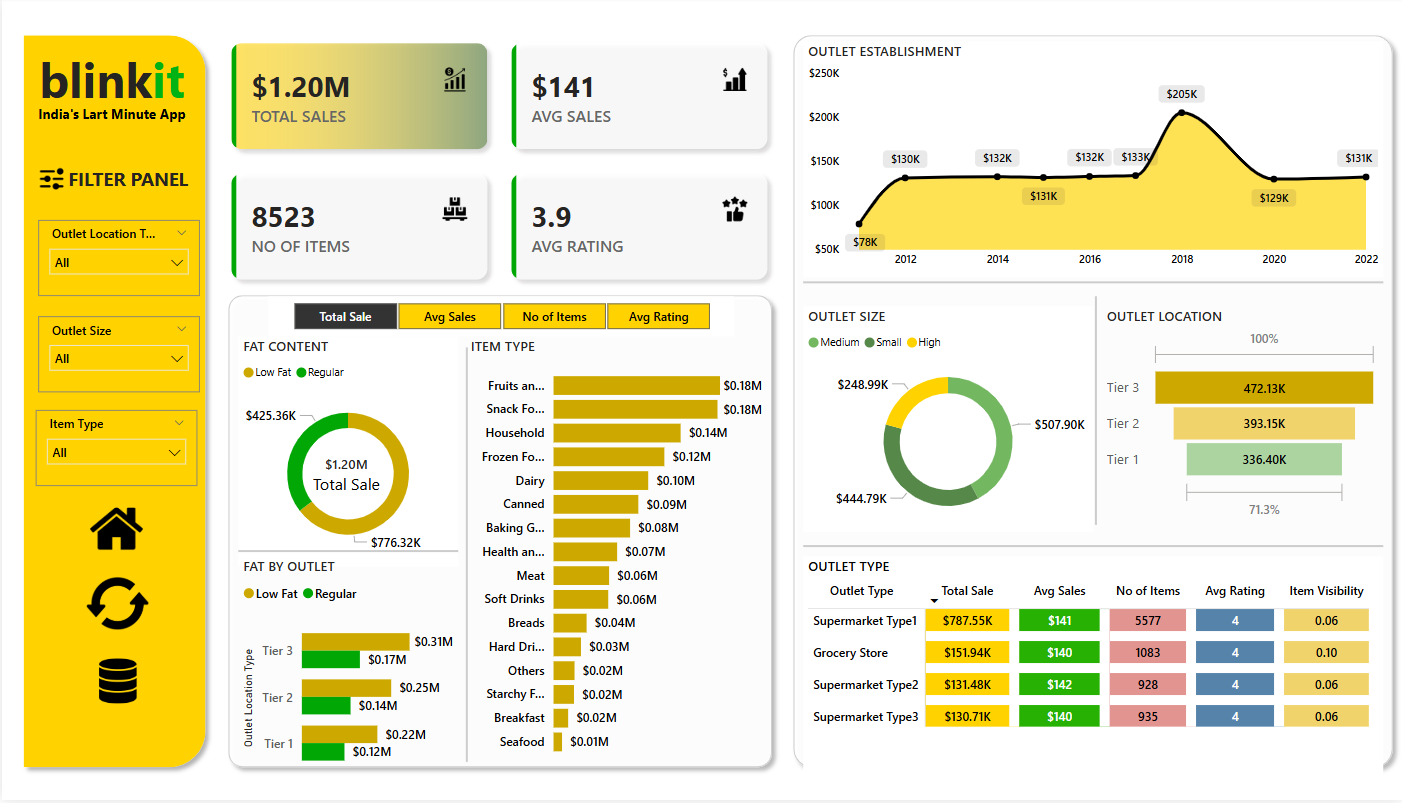

Layout of this report page (visuals, bound fields, positions):
{"tool":"powerbi","page":{"name":"Blinkit Analysis","canvas":[1400,800],"ordinal":0},"visuals":[{"type":"shape","box":[12.9,25.7,200,750],"z":0},{"type":"textbox","box":[31.4,100,171.4,34.3],"z":1000},{"type":"textbox","box":[25.7,41.4,167.1,75.7],"z":2000},{"type":"cardVisual","fields":{"Data":["BlinkIT Grocery Data.Total Sale","BlinkIT Grocery Data.Avg Sales","BlinkIT Grocery Data.No of Items","BlinkIT Grocery Data.Avg Rating"]},"box":[212.9,25.7,570,270],"z":3000},{"type":"shape","box":[217.1,285.7,561.4,490],"z":4000},{"type":"donutChart","title":"FAT CONTENT","fields":{"Y":["BlinkIT Grocery Data.Total Sale"],"Category":["BlinkIT Grocery Data.Item Fat Content"]},"box":[235.7,335.7,220,230],"z":5000},{"type":"slicer","fields":{"Values":["Metrics.Metrics"]},"box":[265.7,295.7,465.7,40],"z":6000},{"type":"cardVisual","fields":{"Data":["BlinkIT Grocery Data.Total Sale"]},"box":[292.9,434.3,104.3,81.4],"z":7000},{"type":"clusteredBarChart","title":"FAT BY OUTLET","fields":{"Y":["BlinkIT Grocery Data.Total Sale"],"Category":["BlinkIT Grocery Data.Outlet Location Type"],"Series":["BlinkIT Grocery Data.Item Fat Content"]},"box":[235.7,555.7,220,230],"z":8000},{"type":"shape","box":[235.7,542.9,220,17.1],"z":9000},{"type":"shape","box":[455.7,347.1,17.1,414.3],"z":10000},{"type":"barChart","title":"ITEM TYPE","fields":{"Y":["BlinkIT Grocery Data.Total Sale"],"Category":["BlinkIT Grocery Data.Item Type"]},"box":[464.3,335.7,301.4,430],"z":11000},{"type":"shape","box":[782.9,25.7,617.1,750],"z":12000},{"type":"lineChart","title":"OUTLET ESTABLISHMENT","fields":{"Category":["BlinkIT Grocery Data.Outlet Establishment Year"],"Y":["BlinkIT Grocery Data.Total Sale"]},"box":[801.4,41.4,580,235.7],"z":13000},{"type":"shape","box":[801.4,268.6,580,27.1],"z":14000},{"type":"donutChart","title":"OUTLET SIZE","fields":{"Y":["BlinkIT Grocery Data.Total Sale"],"Category":["BlinkIT Grocery Data.Outlet Size"]},"box":[801.4,305.7,290,225.7],"z":15000},{"type":"shape","box":[1087.1,295.7,12.9,228.6],"z":16000},{"type":"funnel","title":"OUTLET LOCATION","fields":{"Y":["Sum(BlinkIT Grocery Data.Sales)"],"Category":["BlinkIT Grocery Data.Outlet Location Type"]},"box":[1100,305.7,281.4,217.1],"z":17000},{"type":"shape","box":[801.4,532.9,580,27.1],"z":18000},{"type":"pivotTable","title":"OUTLET TYPE","fields":{"Rows":["BlinkIT Grocery Data.Outlet Type"],"Values":["BlinkIT Grocery Data.Total Sale","BlinkIT Grocery Data.Avg Sales","BlinkIT Grocery Data.No of Items","BlinkIT Grocery Data.Avg Rating","Avg(BlinkIT Grocery Data.Item Visibility)"]},"box":[801.4,555.7,580,220],"z":19000},{"type":"slicer","fields":{"Values":["BlinkIT Grocery Data.Outlet Location Type"]},"box":[35.7,220,161.4,75.7],"z":20000},{"type":"slicer","fields":{"Values":["BlinkIT Grocery Data.Outlet Size"]},"box":[35.7,315.7,161.4,75.7],"z":21000},{"type":"slicer","fields":{"Values":["BlinkIT Grocery Data.Item Type"]},"box":[34.3,410,161.4,75.7],"z":22000},{"type":"textbox","box":[55.7,161.4,140,35.7],"z":23000},{"type":"image","box":[31.4,161.4,37.1,35.7],"z":24000},{"type":"image","box":[82.9,497.1,64.3,62.9],"z":25000},{"type":"image","box":[84.3,654.3,64.3,54.3],"z":26000},{"type":"image","box":[80,565.7,71.4,74.3],"z":27000}]}

Visuals, with their boxes in screenshot pixels (x1, y1, x2, y2), scaled from the page's 1400x800 canvas onto the 1402x803 screenshot:
shape: pyautogui.locateOnScreen(13, 26, 213, 779)
textbox: pyautogui.locateOnScreen(31, 100, 203, 135)
textbox: pyautogui.locateOnScreen(26, 42, 193, 118)
cardVisual - BlinkIT Grocery Data.Total Sale x BlinkIT Grocery Data.Avg Sales: pyautogui.locateOnScreen(213, 26, 784, 297)
shape: pyautogui.locateOnScreen(217, 287, 780, 779)
"FAT CONTENT" donutChart: pyautogui.locateOnScreen(236, 337, 456, 568)
slicer - Metrics.Metrics: pyautogui.locateOnScreen(266, 297, 732, 337)
cardVisual - BlinkIT Grocery Data.Total Sale: pyautogui.locateOnScreen(293, 436, 398, 518)
"FAT BY OUTLET" clusteredBarChart: pyautogui.locateOnScreen(236, 558, 456, 789)
shape: pyautogui.locateOnScreen(236, 545, 456, 562)
shape: pyautogui.locateOnScreen(456, 348, 473, 764)
"ITEM TYPE" barChart: pyautogui.locateOnScreen(465, 337, 767, 769)
shape: pyautogui.locateOnScreen(784, 26, 1401, 779)
"OUTLET ESTABLISHMENT" lineChart: pyautogui.locateOnScreen(803, 42, 1383, 278)
shape: pyautogui.locateOnScreen(803, 270, 1383, 297)
"OUTLET SIZE" donutChart: pyautogui.locateOnScreen(803, 307, 1093, 533)
shape: pyautogui.locateOnScreen(1089, 297, 1102, 526)
"OUTLET LOCATION" funnel: pyautogui.locateOnScreen(1102, 307, 1383, 525)
shape: pyautogui.locateOnScreen(803, 535, 1383, 562)
"OUTLET TYPE" pivotTable: pyautogui.locateOnScreen(803, 558, 1383, 779)
slicer - BlinkIT Grocery Data.Outlet Location Type: pyautogui.locateOnScreen(36, 221, 197, 297)
slicer - BlinkIT Grocery Data.Outlet Size: pyautogui.locateOnScreen(36, 317, 197, 393)
slicer - BlinkIT Grocery Data.Item Type: pyautogui.locateOnScreen(34, 412, 196, 488)
textbox: pyautogui.locateOnScreen(56, 162, 196, 198)
image: pyautogui.locateOnScreen(31, 162, 69, 198)
image: pyautogui.locateOnScreen(83, 499, 147, 562)
image: pyautogui.locateOnScreen(84, 657, 149, 711)
image: pyautogui.locateOnScreen(80, 568, 152, 642)
